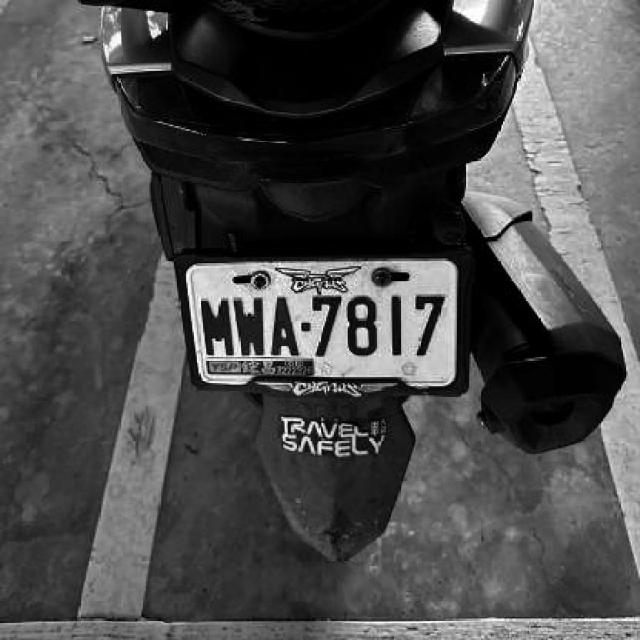-: (301, 320, 314, 331)
1: (388, 295, 403, 357)
7: (312, 292, 345, 357), (414, 291, 446, 358)
8: (344, 294, 378, 360)
A: (269, 295, 300, 357)
M: (200, 295, 234, 360)
W: (232, 295, 265, 360)
